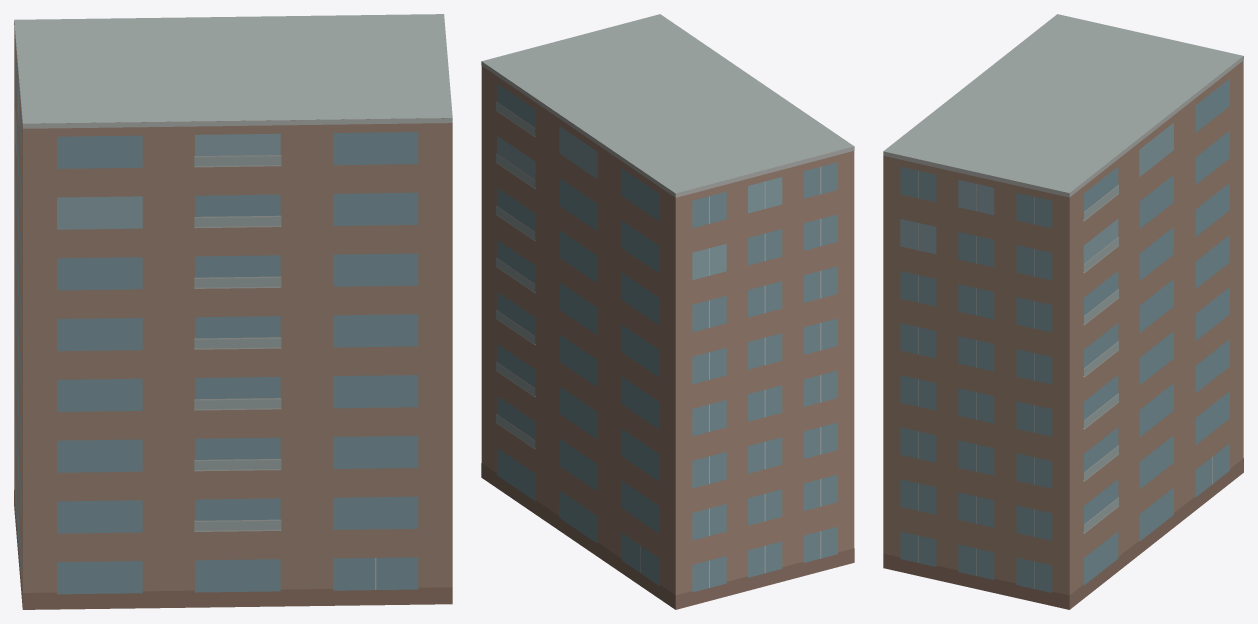
The model's file is survey-upis-32728392.glb.
3 views of the same model, side by side, from view 1: azimuth 30°, elevation 25°; view 2: azimuth 150°, elevation 25°; view 3: azimuth 270°, elevation 25° (orthographic). The views are drawn at different scales.
Parts seen in each view (by area): view 1: survey-upis-32728392.tmp; view 2: survey-upis-32728392.tmp; view 3: survey-upis-32728392.tmp.
Boxes of the visible parts, left/top/right/bottom form: survey-upis-32728392.tmp: left=14, top=14, right=452, bottom=609; survey-upis-32728392.tmp: left=481, top=14, right=854, bottom=609; survey-upis-32728392.tmp: left=883, top=14, right=1243, bottom=609.
Size of the model in its own units: 21.4 by 23.2 by 18.2.
